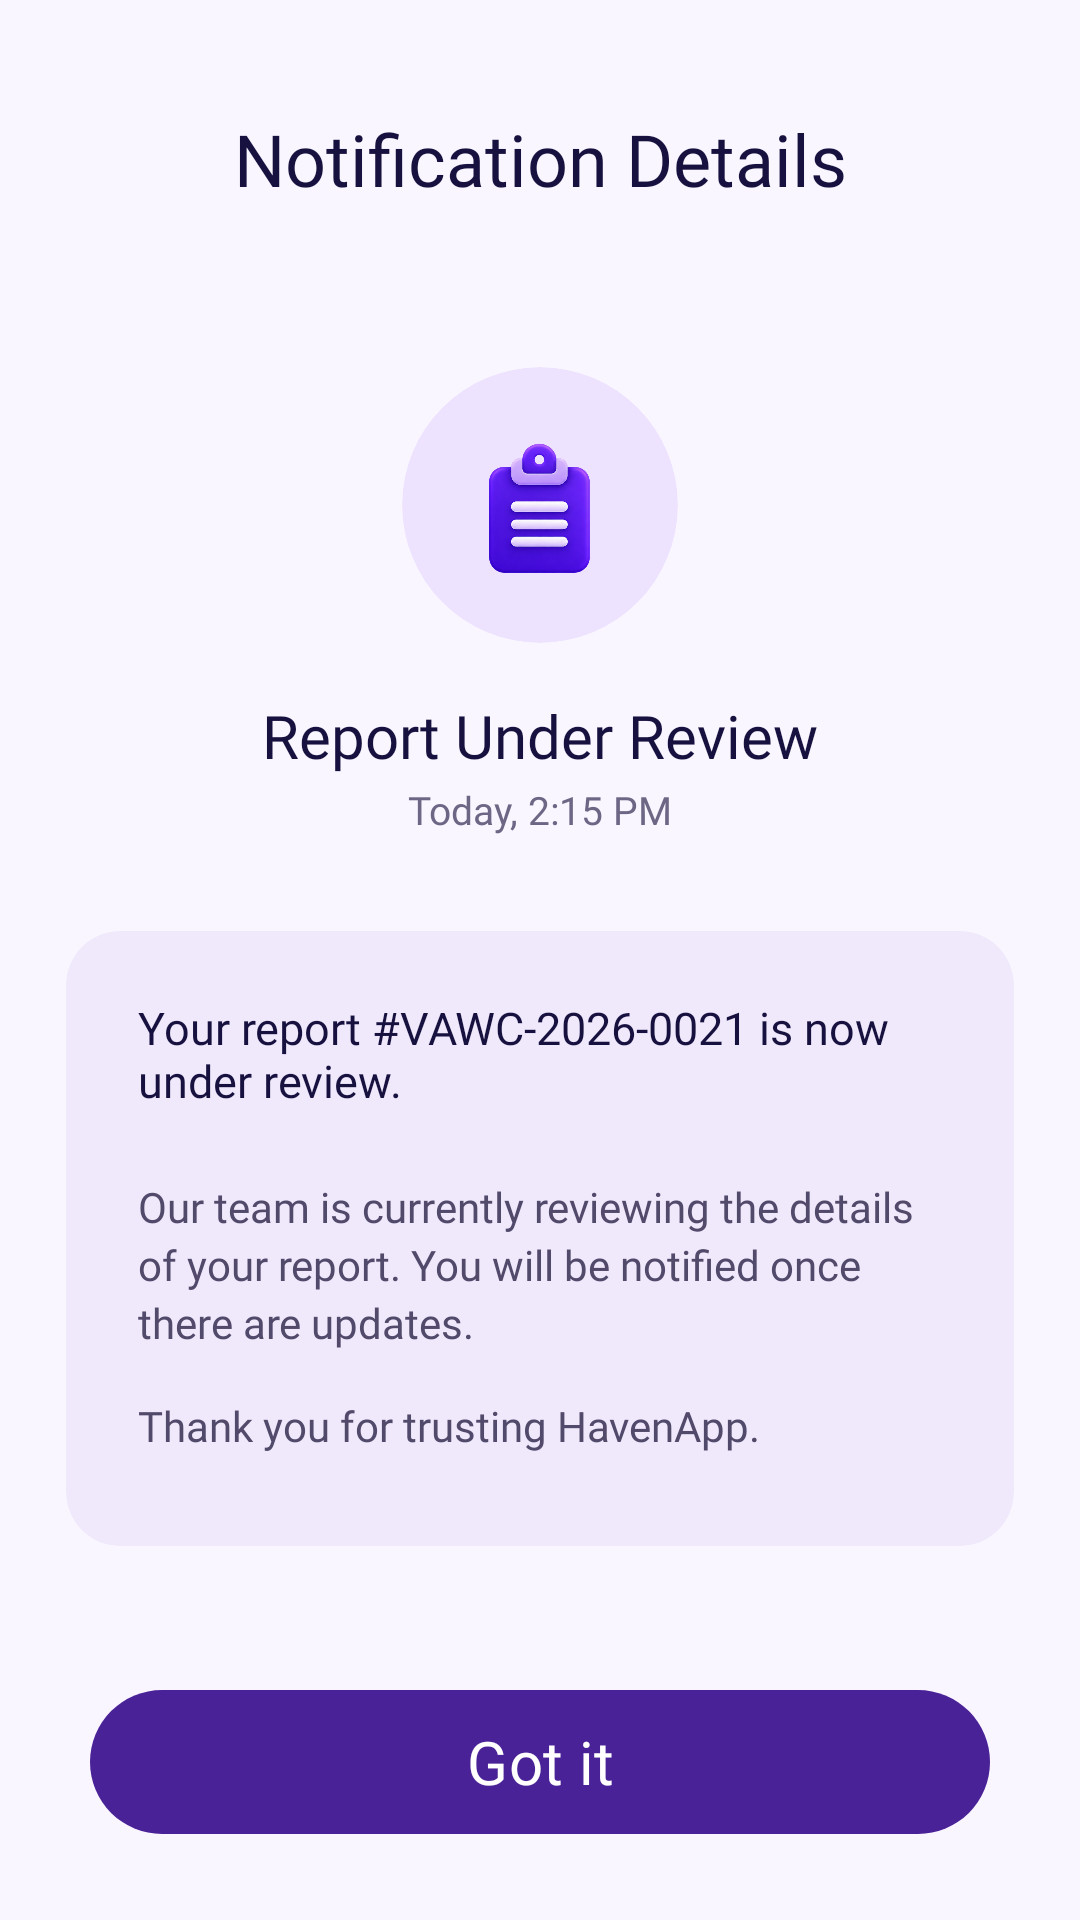

Icon click points for this 1080px x 1920px phone screenshot, format [x,y]:
Report status update: [539,508]
